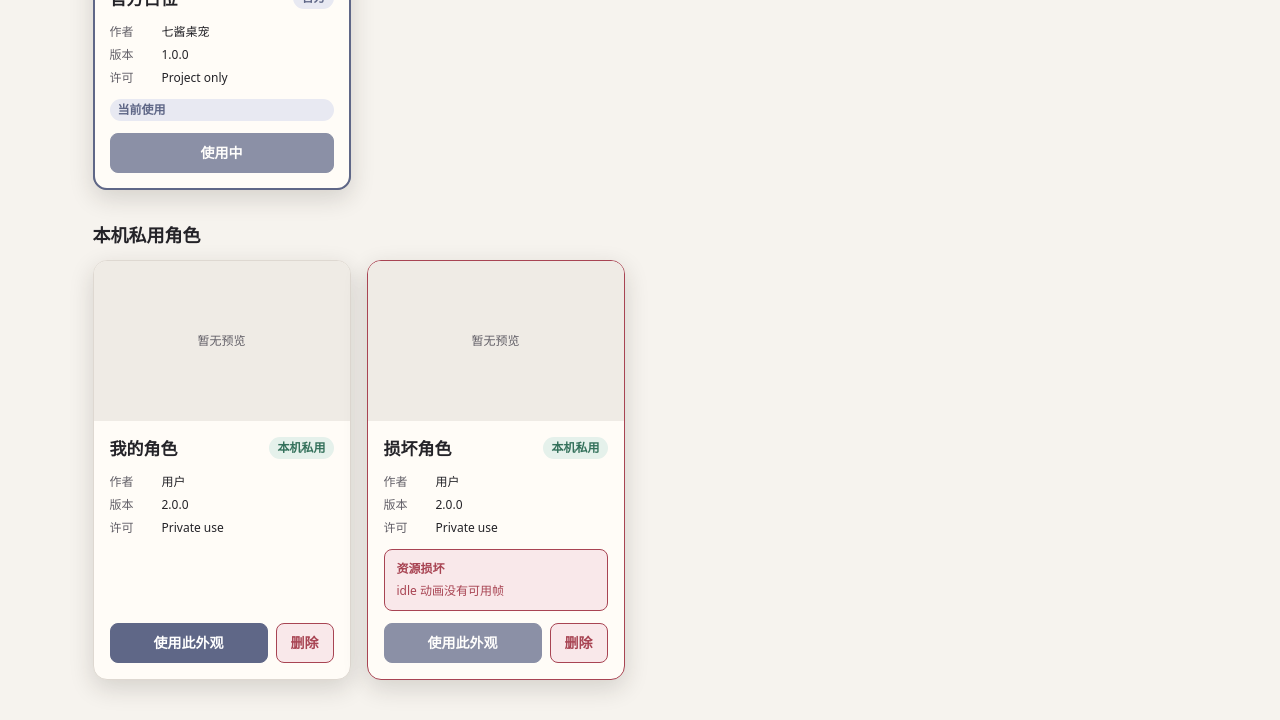
Test case: AppearanceCenter › clears its busy state when the main window reports a cancelled request
(page scrolled)
Click the button "使用此外观" below "我的角色". click: (188, 643)
box: [110,623,268,663]
(page scrolled)
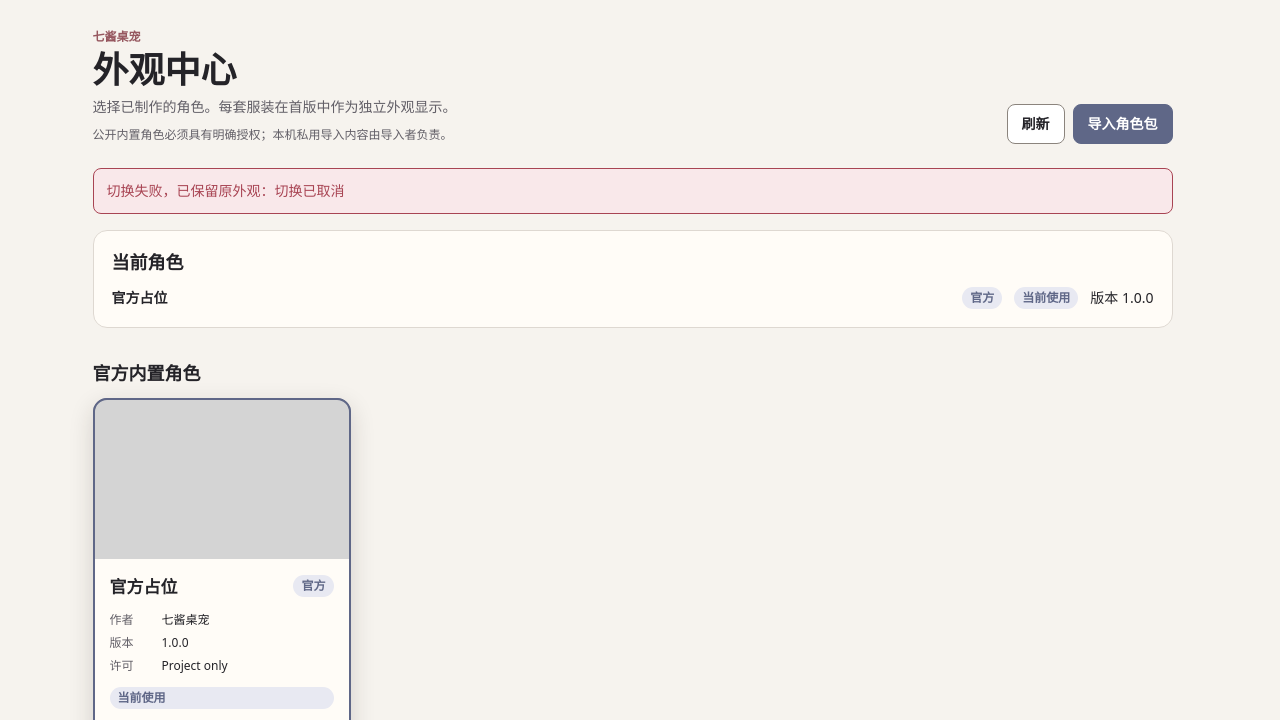
Check: the text "切换失败，已保留原外观：切换已取消" is shown, box [92,168,1172,214]
